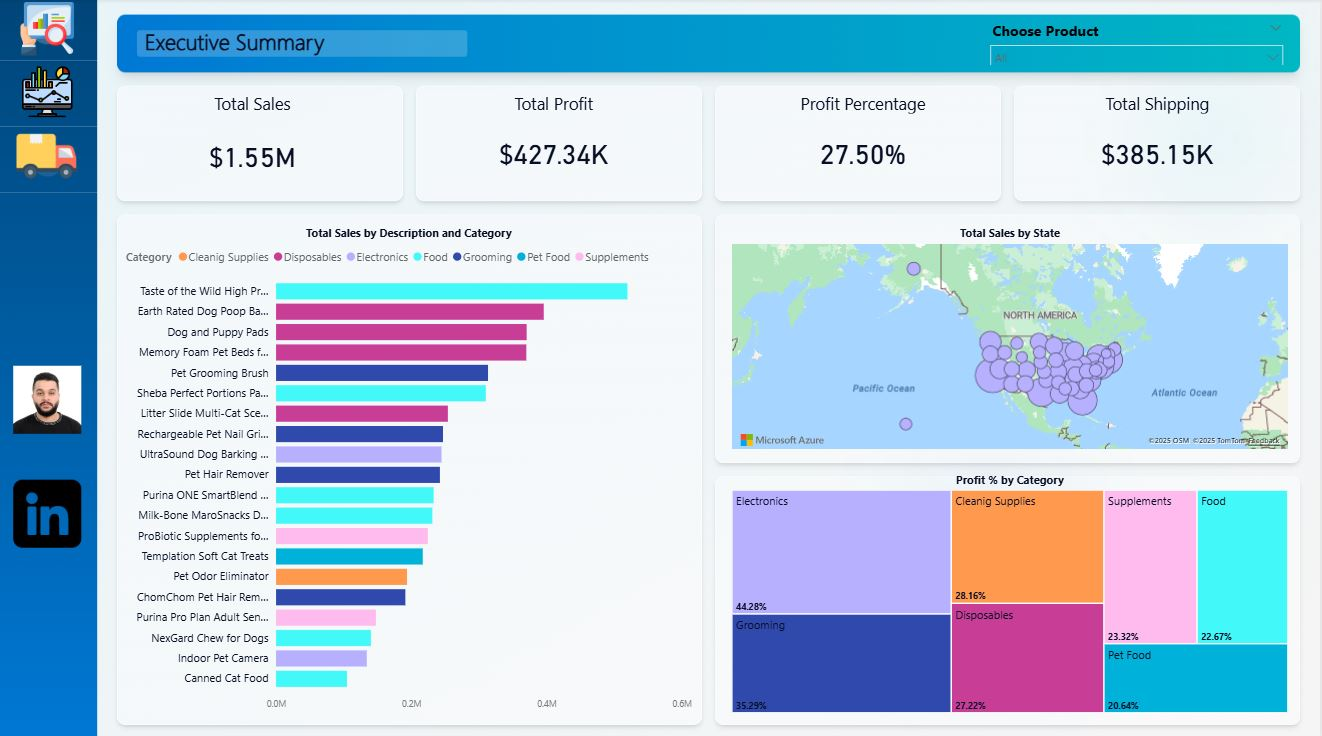

What the dashboard file says about the page in this screenshot:
{"tool":"powerbi","page":{"name":"Executive Summary","canvas":[1600,900],"ordinal":0},"visuals":[{"type":"azureMap","title":"Total Sales by State","fields":{"Category":["dim_state_mapping.State"],"Size":["Sum(fact_sales.Sales)"]},"box":[883.6,275.6,682.7,275.6],"z":0},{"type":"barChart","title":"Total Sales by Description and Category","fields":{"Y":["Sum(dim_market_basket.Sales)"],"Category":["dim_products.Description"],"Series":["dim_products.Category"]},"box":[149.3,275.6,695.1,595.6],"z":5000},{"type":"treemap","fields":{"Values":["_Measures.Profit %"],"Group":["dim_products.Category","dim_products.Description"]},"box":[883.6,574.2,682.7,296.9],"z":6000},{"type":"slicer","fields":{"Values":["dim_products.Description"]},"box":[1191.1,23.1,375.1,58.7],"z":7000},{"type":"textbox","box":[172.4,28.4,300.4,76.4],"z":8000},{"type":"image","box":[0,0,119.1,74.7],"z":9000},{"type":"image","box":[0,149.3,119.1,83.6],"z":10000},{"type":"image","box":[14.2,574.2,92.4,101.3],"z":11000},{"type":"image","box":[0,76.4,119.1,72.9],"z":12000},{"type":"card","title":"Profit Percentage","fields":{"Values":["_Measures.Profit %"]},"box":[940.4,113.8,211.6,120.9],"z":12001},{"type":"card","title":"Total Sales","fields":{"Values":["Sum(fact_sales.Sales)"]},"box":[200.9,113.8,213.3,128],"z":12002},{"type":"card","title":"Total Profit","fields":{"Values":["Sum(fact_sales.Profit Baseline)"]},"box":[544,113.8,256,120.9],"z":12003},{"type":"card","title":"Total Shipping","fields":{"Values":["_Measures.Shipping Baseline"]},"box":[1281.8,113.8,243.6,120.9],"z":12004},{"type":"image","box":[13.9,412.2,92.2,149.6],"z":12005}]}

Visuals, with their boxes on the page's 1600x900 design canvas (x1, y1, x2, y2). These are canvas units, not pixel positions in the 1322x736 screenshot, which may show the page scaled, cropped or inside an application window:
"Total Sales by State" azureMap: Rect(884, 276, 1566, 551)
"Total Sales by Description and Category" barChart: Rect(149, 276, 844, 871)
treemap - _Measures.Profit % x dim_products.Category: Rect(884, 574, 1566, 871)
slicer - dim_products.Description: Rect(1191, 23, 1566, 82)
textbox: Rect(172, 28, 473, 105)
image: Rect(0, 0, 119, 75)
image: Rect(0, 149, 119, 233)
image: Rect(14, 574, 107, 676)
image: Rect(0, 76, 119, 149)
"Profit Percentage" card: Rect(940, 114, 1152, 235)
"Total Sales" card: Rect(201, 114, 414, 242)
"Total Profit" card: Rect(544, 114, 800, 235)
"Total Shipping" card: Rect(1282, 114, 1525, 235)
image: Rect(14, 412, 106, 562)
